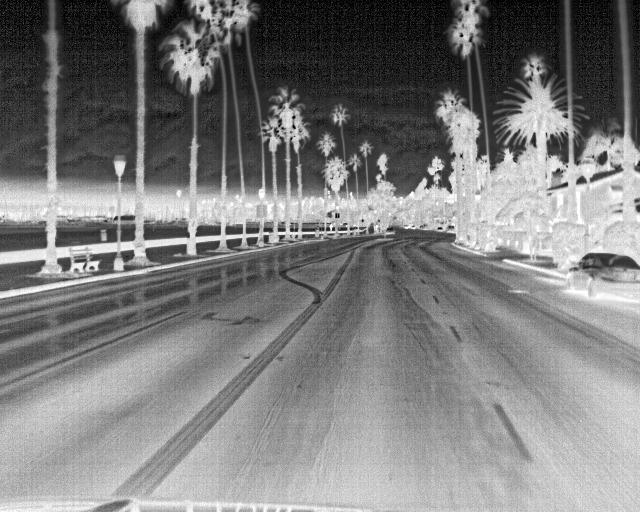car: (564, 252, 639, 299), (383, 225, 396, 237), (444, 223, 457, 235)
